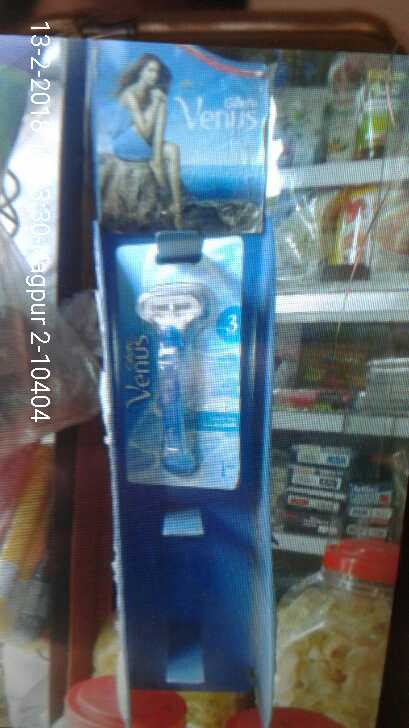venus: (116, 238, 247, 487)
